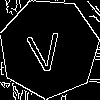V: (24, 23, 64, 74)
